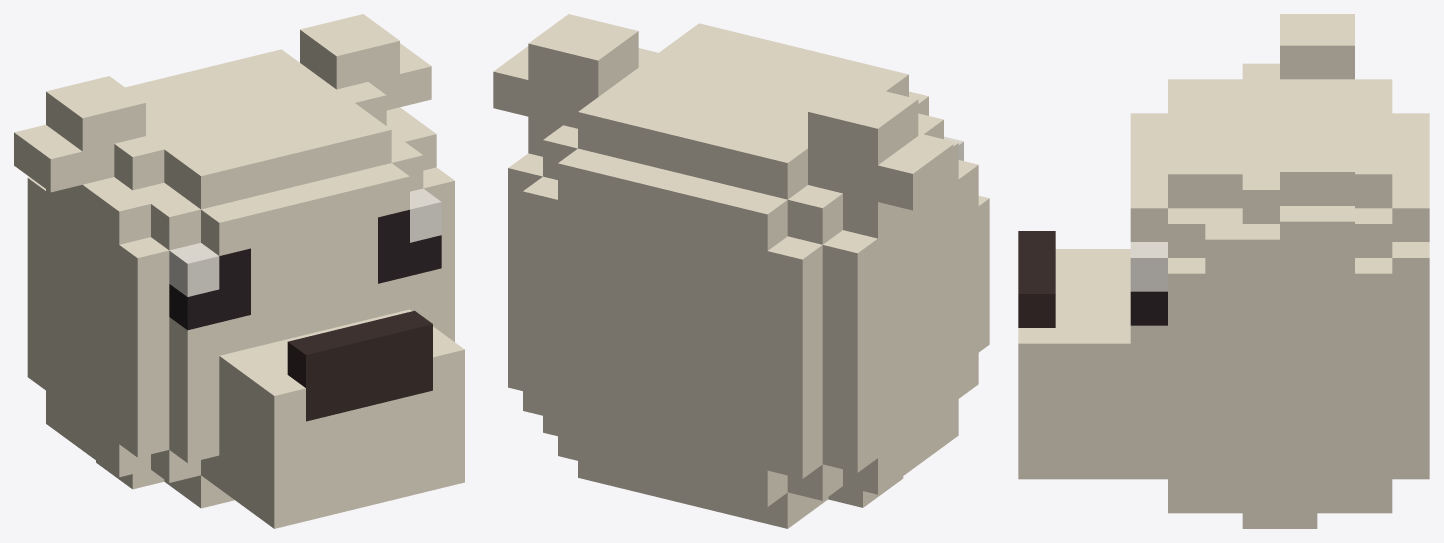
The model's file is polar_bear__head.obj.
The picture shows the model from 3 angles, left to right: view 1: azimuth 30°, elevation 25°; view 2: azimuth 150°, elevation 25°; view 3: azimuth 270°, elevation 25°; orthographic projection. The views are drawn at different scales.
Parts seen in each view (by area): view 1: polar_bear__head; view 2: polar_bear__head; view 3: polar_bear__head.
Boxes of the visible parts, left/top/right/bottom form: polar_bear__head: left=14, top=14, right=464, bottom=528; polar_bear__head: left=493, top=14, right=989, bottom=528; polar_bear__head: left=1018, top=14, right=1429, bottom=528.
Size of the model in its own units: 1.2 by 1.1 by 1.1.
Materials: 1 (1 with a texture image).
